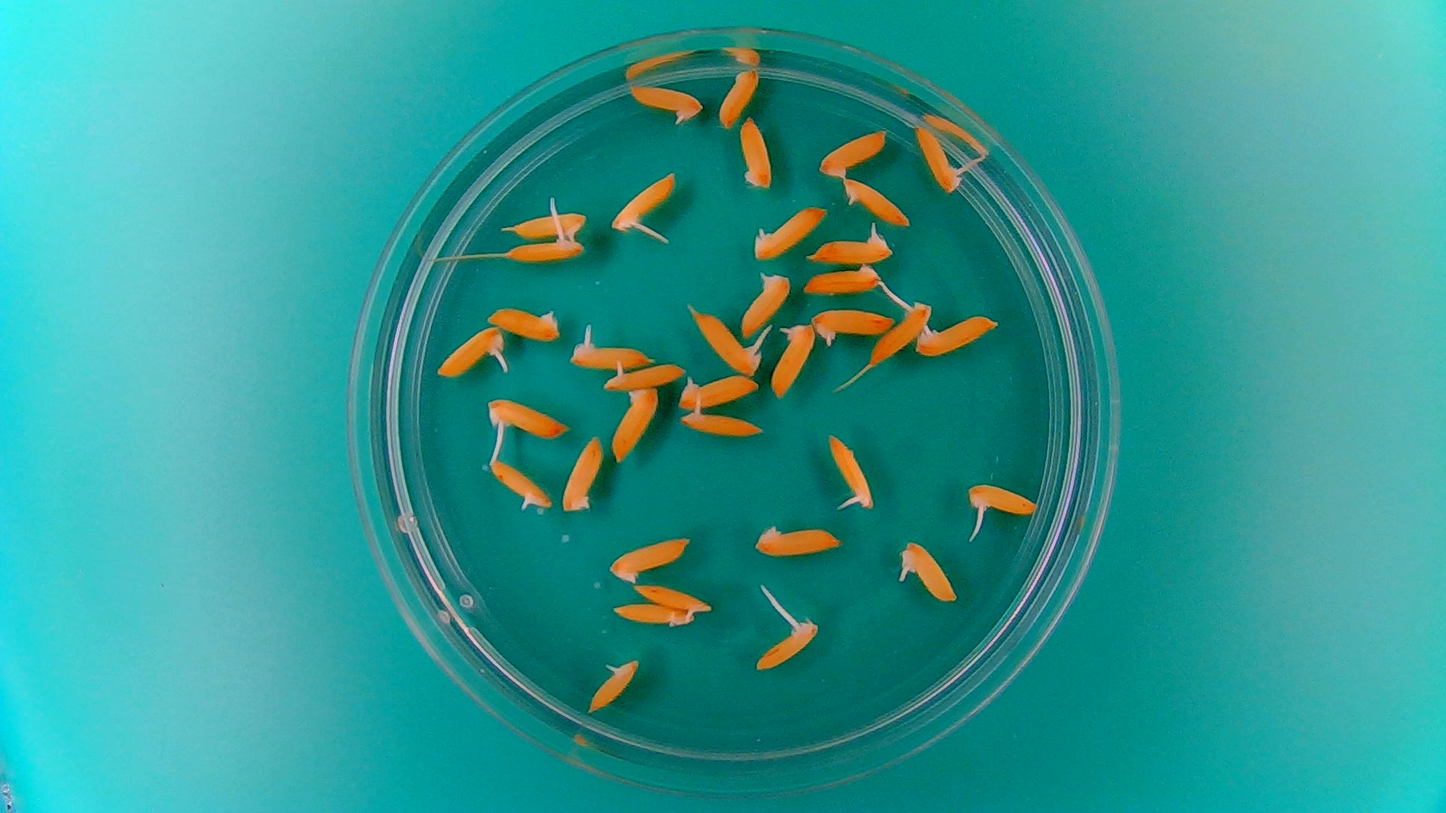no: (870, 291, 933, 369), (606, 531, 693, 583), (608, 388, 660, 466), (559, 431, 606, 516), (752, 519, 846, 561), (816, 126, 889, 180), (484, 300, 563, 343), (800, 262, 886, 298), (715, 64, 762, 129), (610, 600, 696, 630), (739, 117, 773, 191)
yes: (749, 200, 829, 261), (694, 313, 769, 377), (912, 121, 971, 196), (826, 431, 877, 513), (434, 324, 509, 379), (838, 174, 913, 227), (487, 393, 571, 440), (486, 455, 554, 512), (738, 268, 795, 336), (769, 318, 816, 400), (913, 313, 998, 358), (608, 173, 669, 235), (900, 543, 959, 605), (810, 303, 895, 345), (751, 617, 813, 674), (677, 369, 762, 410), (585, 656, 642, 716), (601, 358, 688, 394), (803, 233, 895, 267), (503, 229, 588, 265), (504, 206, 589, 241), (623, 86, 702, 123), (678, 406, 763, 440), (633, 580, 715, 615), (967, 480, 1041, 516), (566, 341, 646, 372)
